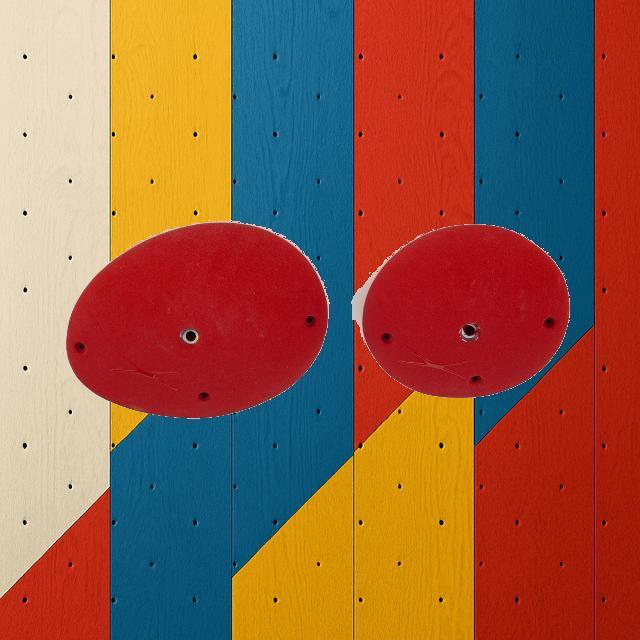Sloper: (65, 222, 328, 418), (361, 222, 569, 398)
